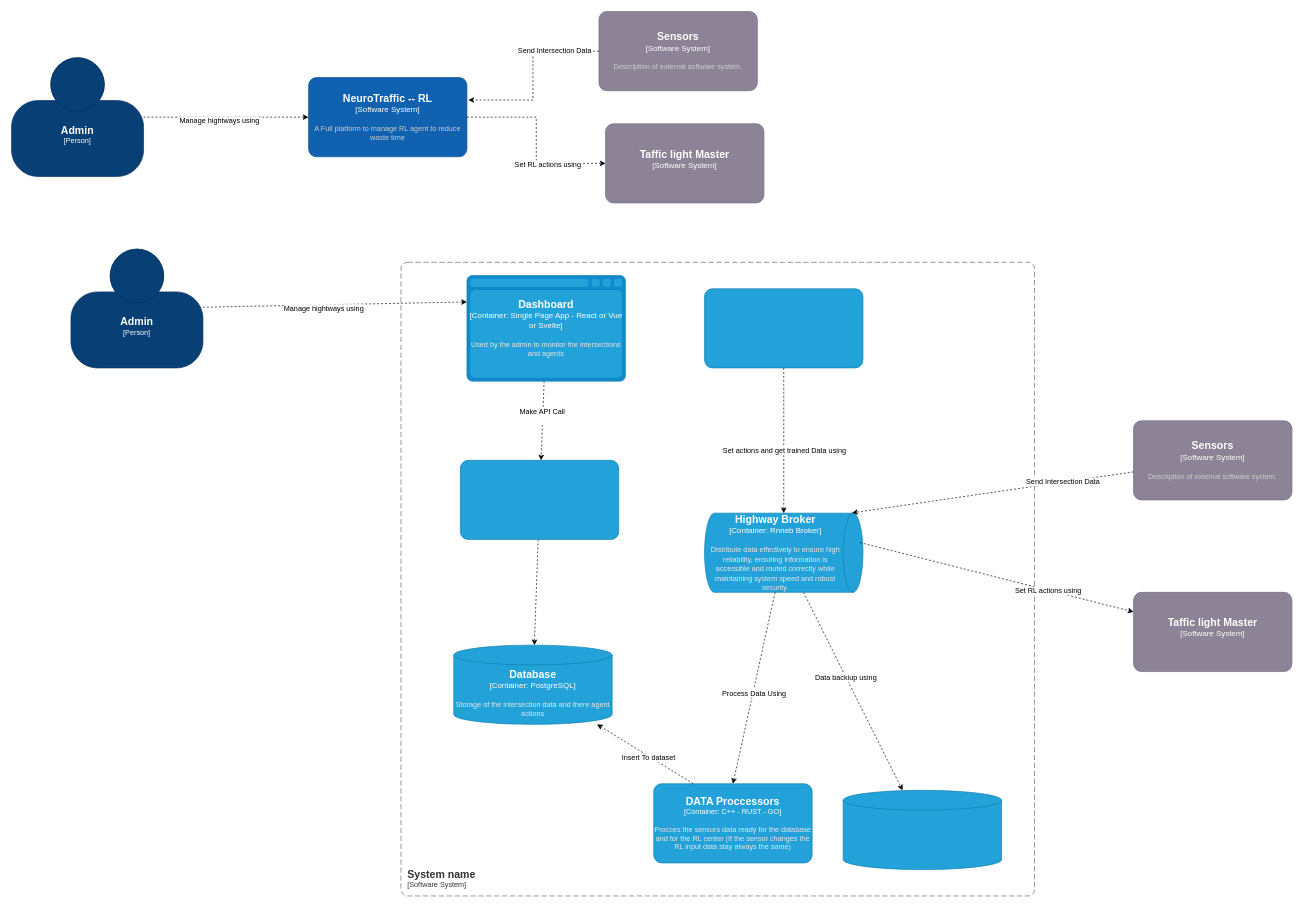
Image size: 1304x908. Some labels were removed from this diagram. Here are the shapes that lost their labels. From the top down, the centre of each, then its label:
pixel 783 328: RL Center [Container: GO - Pyhton - TS ] Generate Actions
pixel 539 500: Backend [Container: Spring Boot - .NET - NestJS]
pixel 922 830: DATA set [Container: MongoDb] To collect Sensors Data
